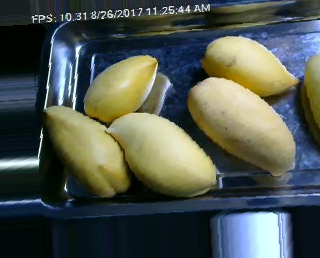Mango: (185, 72, 299, 179), (102, 108, 228, 198), (43, 105, 135, 204), (202, 29, 303, 97), (78, 54, 166, 121)
